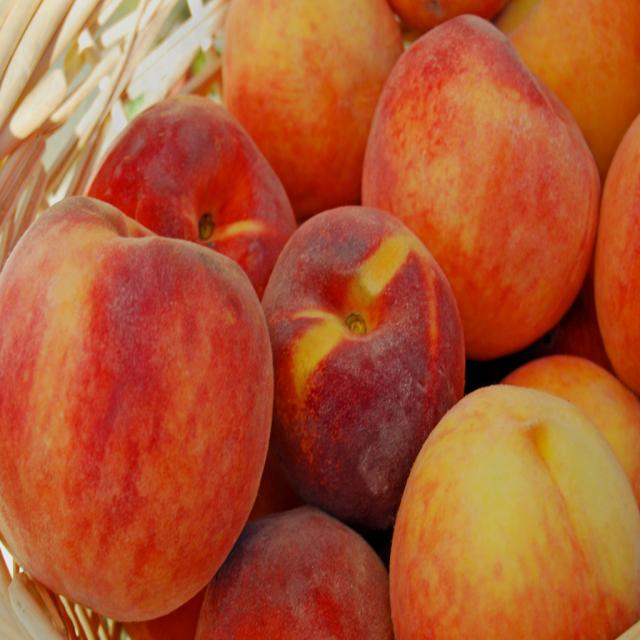Peach: (0, 0, 639, 639), (367, 12, 607, 356)
